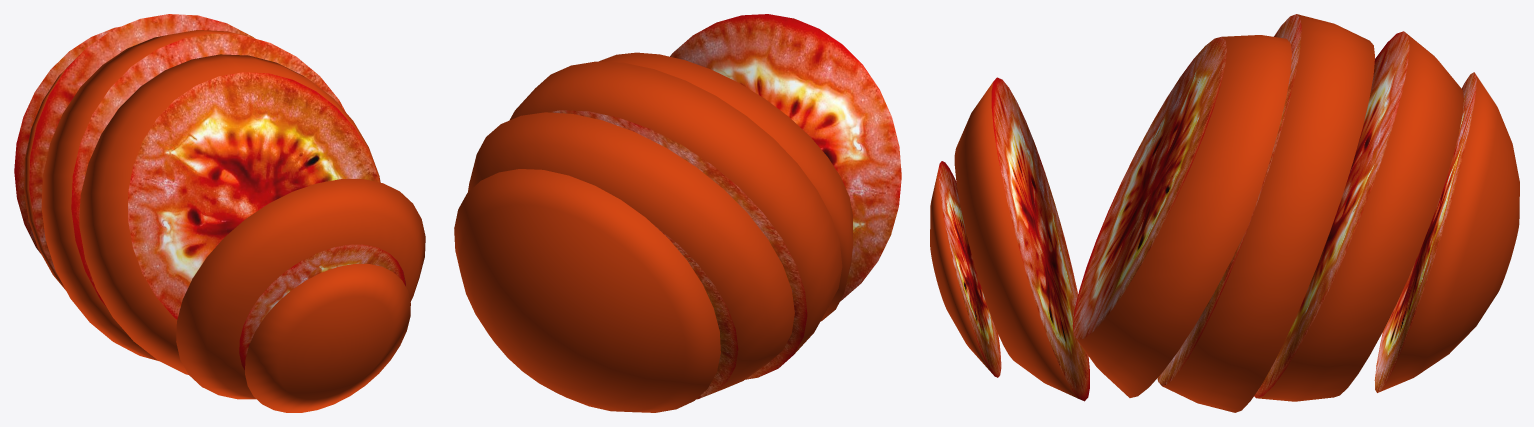
File: Tomate cortado.fbx
3 views of the same model, side by side, from view 1: azimuth 30°, elevation 25°; view 2: azimuth 150°, elevation 25°; view 3: azimuth 270°, elevation 25° (orthographic). The views are drawn at different scales.
Visible parts, largest first — view 1: Sphere.004; view 2: Sphere.004; view 3: Sphere.004.
Part boxes in pixels (left/top/right/bottom): Sphere.004: left=14, top=14, right=425, bottom=412; Sphere.004: left=454, top=14, right=901, bottom=412; Sphere.004: left=930, top=14, right=1519, bottom=412.
Size of the model in its own units: 34.29 by 33.69 by 50.07.
Materials: 2 (1 with a texture image).
